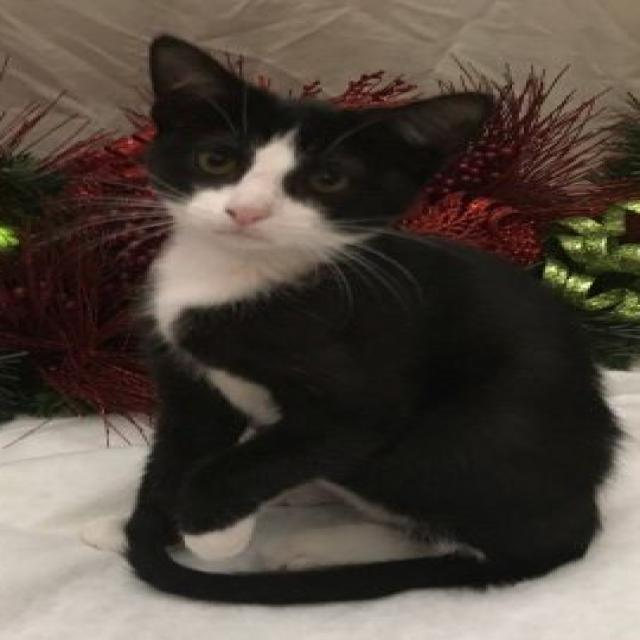Tuxedo: (78, 27, 630, 609)
